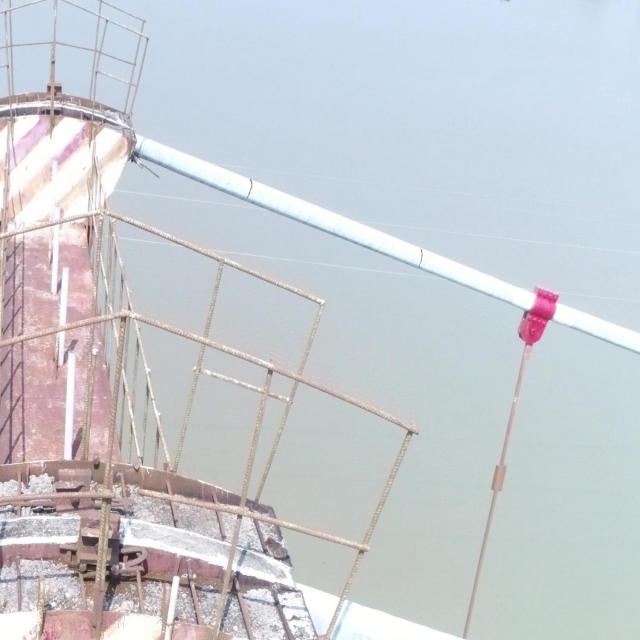crack: (245, 179, 253, 201), (418, 249, 423, 268)
